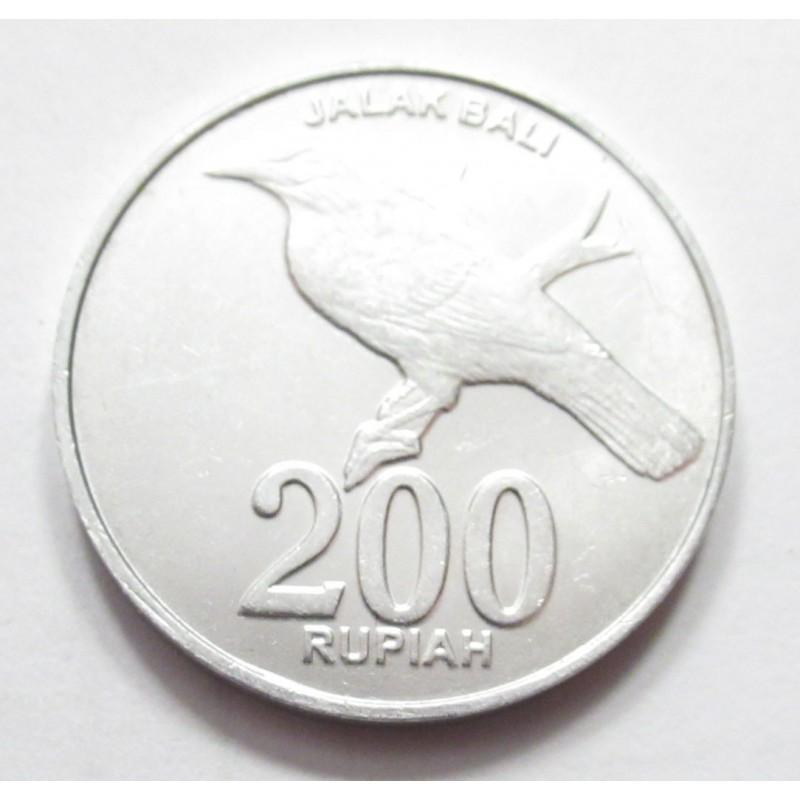coin_200_e2003: (48, 55, 739, 723)
